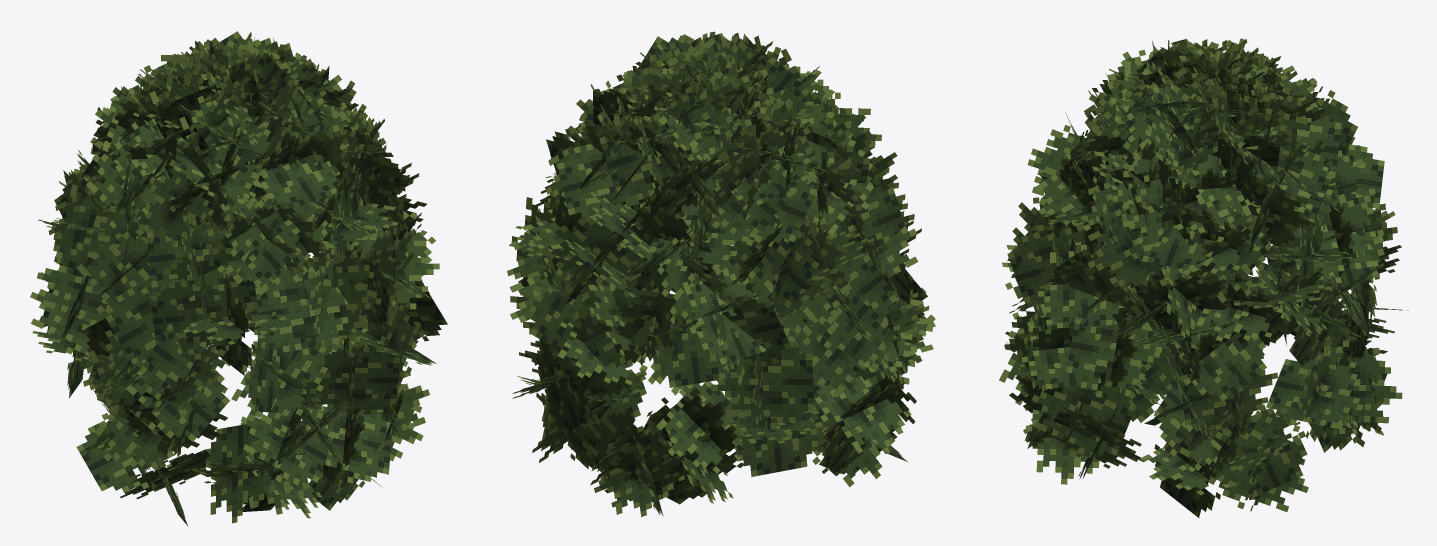
File: Bush_Tall.fbx
The picture shows the model from 3 angles, left to right: view 1: azimuth 30°, elevation 25°; view 2: azimuth 150°, elevation 25°; view 3: azimuth 270°, elevation 25°; orthographic projection. The views are drawn at different scales.
Visible parts, largest first — view 1: Bush_Tall; view 2: Bush_Tall; view 3: Bush_Tall.
Boxes of the visible parts, left/top/right/bottom form: Bush_Tall: left=30, top=31, right=447, bottom=526; Bush_Tall: left=507, top=31, right=935, bottom=516; Bush_Tall: left=999, top=38, right=1408, bottom=517.
Size of the model in its own units: 372 by 417 by 375.
